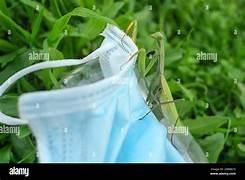Mask: (0, 25, 183, 161)
